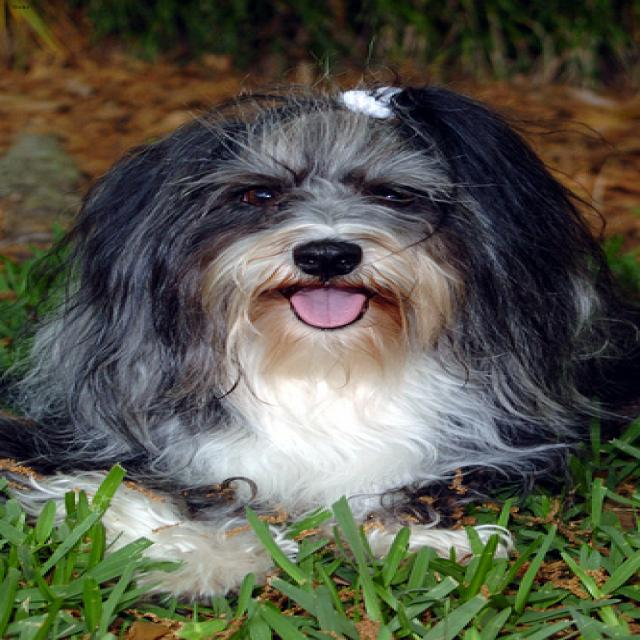dog-havanese: (2, 26, 636, 609)
